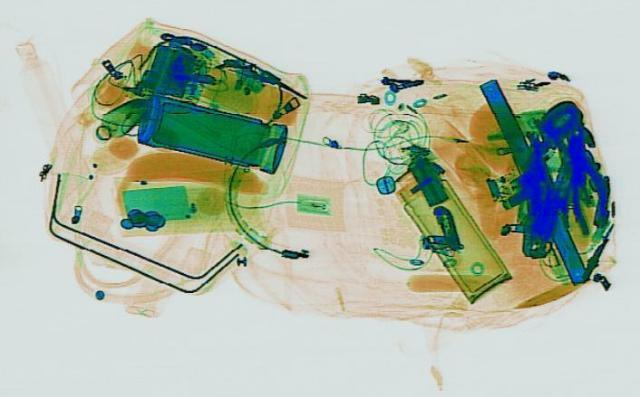Pliers: (554, 135, 618, 234)
